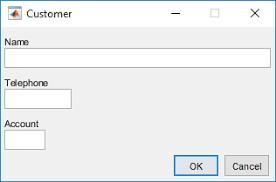button: (225, 156, 270, 178), (175, 156, 219, 177)
icon: (211, 9, 222, 19), (251, 9, 261, 19), (172, 12, 182, 17)
input: (6, 50, 271, 68), (6, 90, 72, 110), (6, 131, 46, 151)
label: (28, 10, 73, 20), (4, 79, 49, 89), (5, 121, 40, 129), (4, 39, 31, 47)
